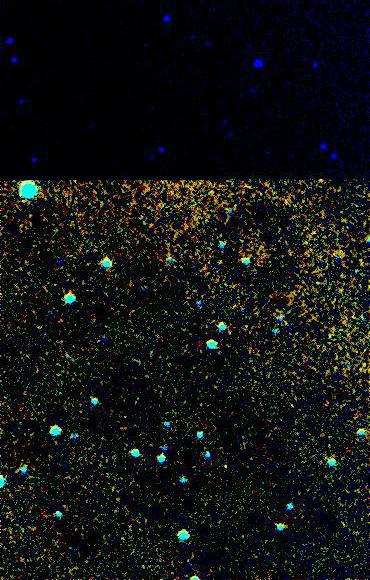star: (212, 453, 242, 483)
